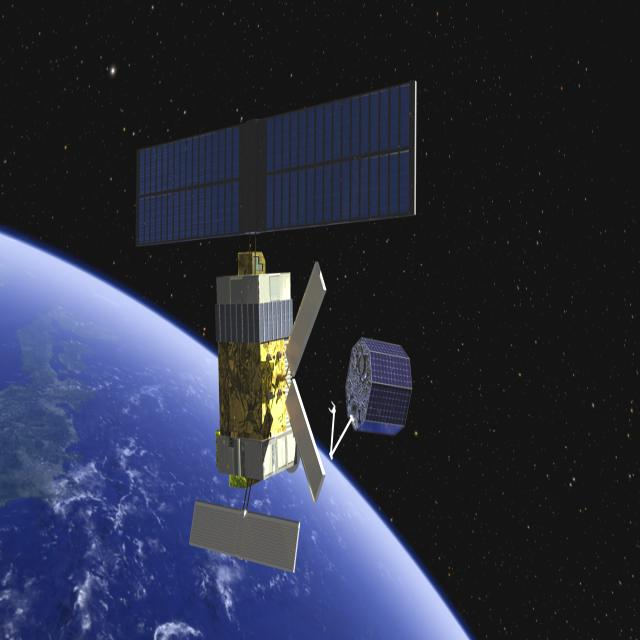satellite: (122, 61, 431, 582)
